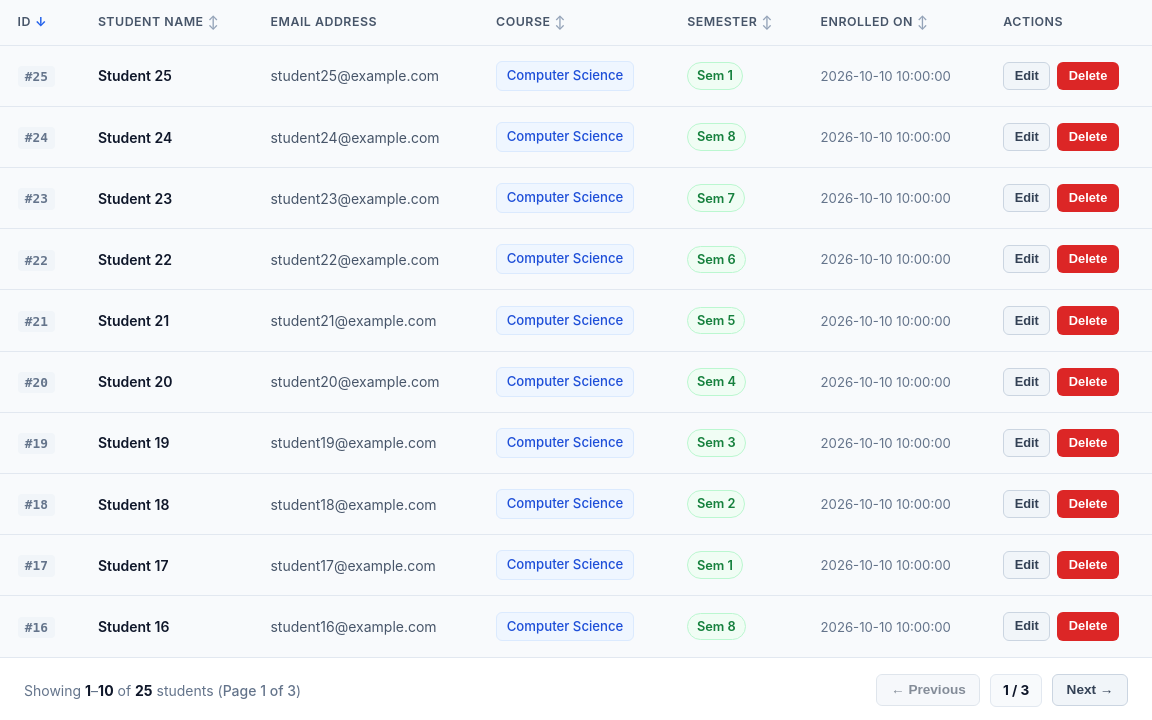
Scenario: Pagination Component & StudentTable Integration › displays 10 rows on page 1 and navigates to page 2 and page 3 in StudentTable
Expected: the text "Page 1 of 3" is shown, [223,682,296,699]
Expected: the text "Student 25" is shown, [98,67,172,84]
Click the button with aria-label "next page": (1090, 690) [1052,674,1128,706]
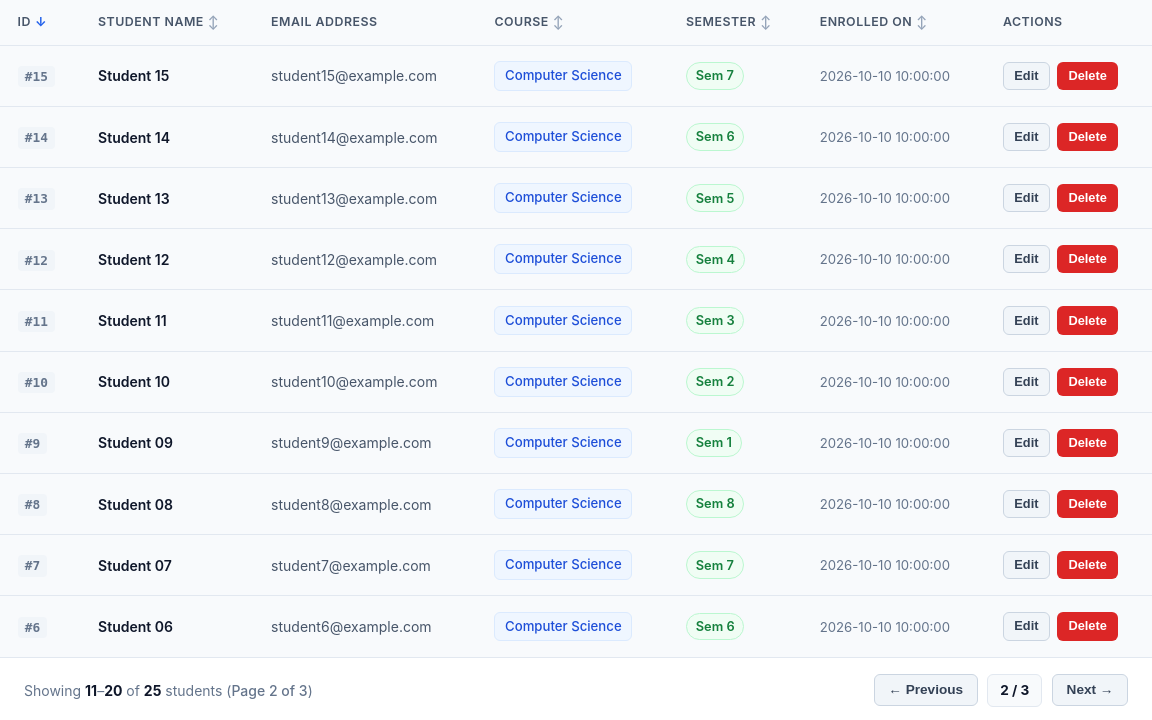
Expected: the text "Page 2 of 3" is shown, [232,682,308,699]
Expected: the text "Student 15" is shown, [98,67,169,84]
Expected: the text "Student 06" is shown, [98,618,173,635]
Click the button with aria-label "next page": (1090, 690) [1052,674,1128,706]
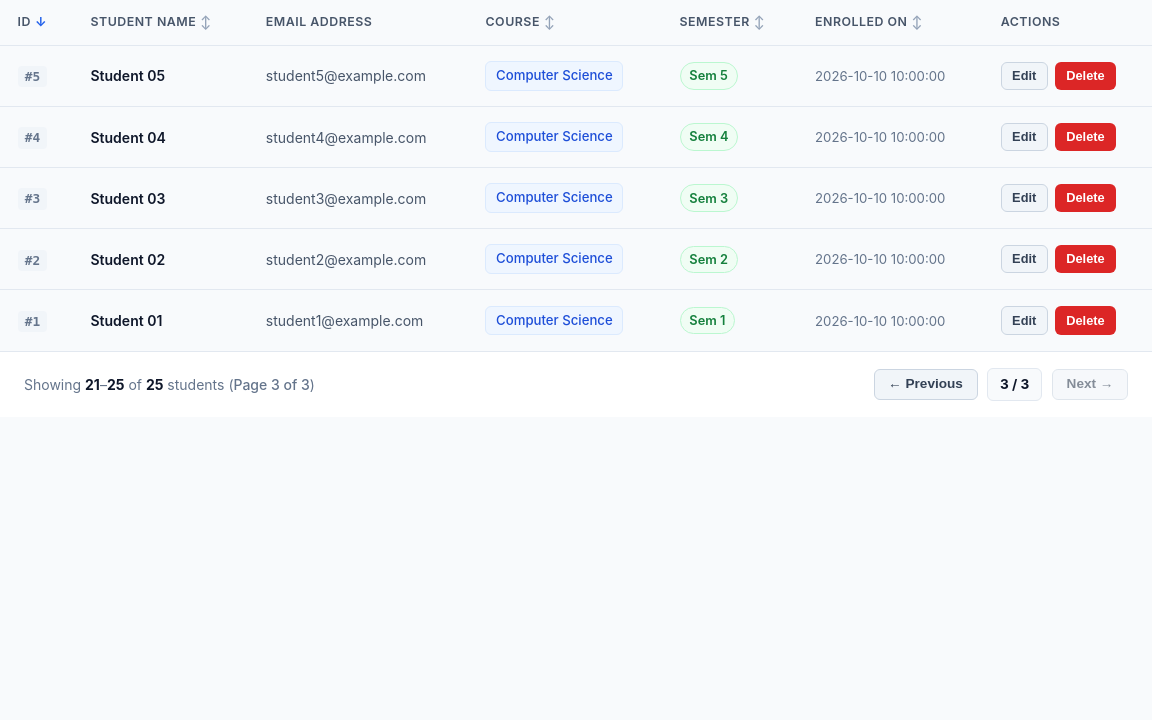
Expected: the text "Page 3 of 3" is shown, [234,376,310,393]
Expected: the text "Student 05" is shown, [90,67,165,84]
Expected: the text "Student 01" is shown, [90,312,162,329]
